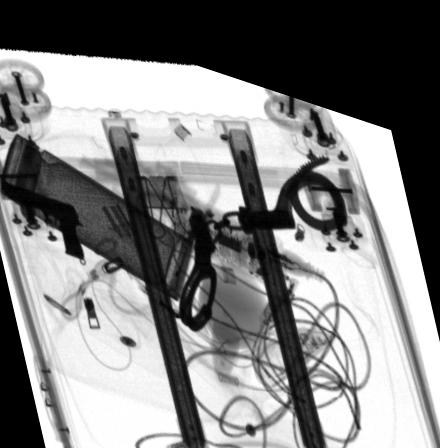Gun: (0, 178, 84, 253)
HandCuffs: (177, 135, 347, 320)
